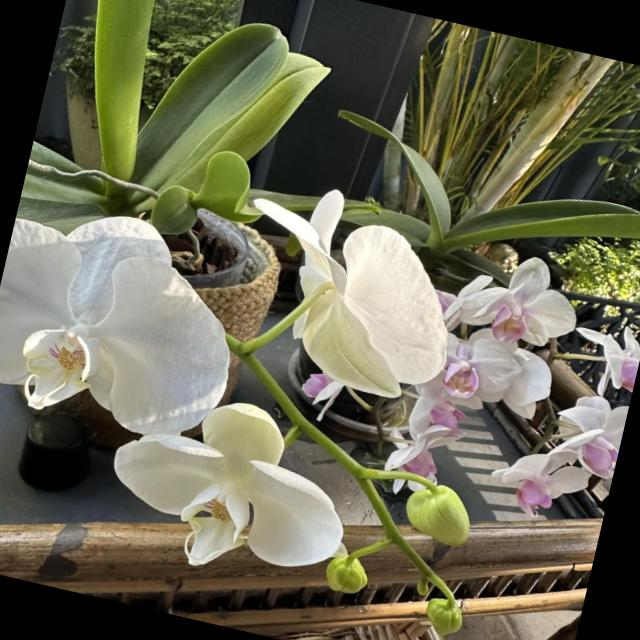flower: (0, 217, 229, 435), (252, 190, 446, 408), (114, 403, 343, 566), (454, 257, 576, 345), (556, 394, 628, 479), (443, 333, 521, 401), (490, 452, 577, 512), (576, 327, 640, 394), (413, 373, 474, 435)
leaf: (133, 21, 287, 186), (343, 111, 451, 242), (93, 0, 151, 177), (446, 197, 640, 245), (201, 403, 283, 484), (405, 484, 469, 544), (345, 203, 430, 244), (151, 184, 196, 234), (451, 247, 510, 285), (30, 142, 80, 173)
stem: (302, 288, 399, 397)
